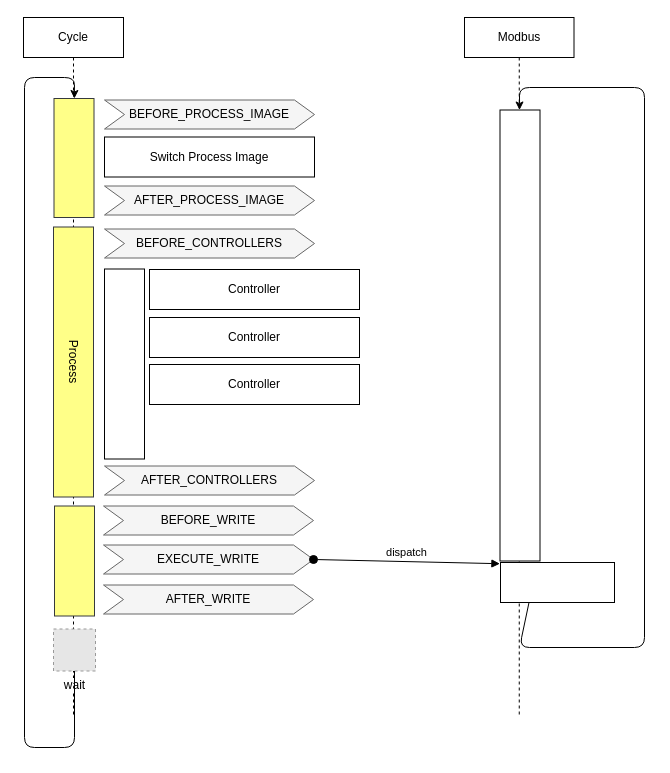
Some shapes in this 670 by 773 pixel diagram are drawn without their labels. Grey dashed boxes stand in for pictures. Here are the shapes that lost their labels. From the top down, the centre of each, then its label:
(73,158): Input
(519,335): Read Data into Channels
(124,363): Scheduler
(74,560): Output
(557,582): Execute Writes
